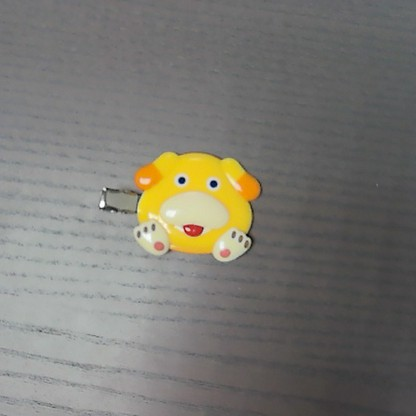dogclip: (96, 143, 261, 266)
